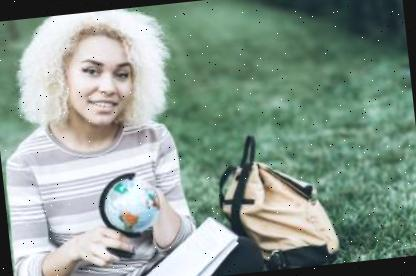person: (0, 2, 212, 276)
